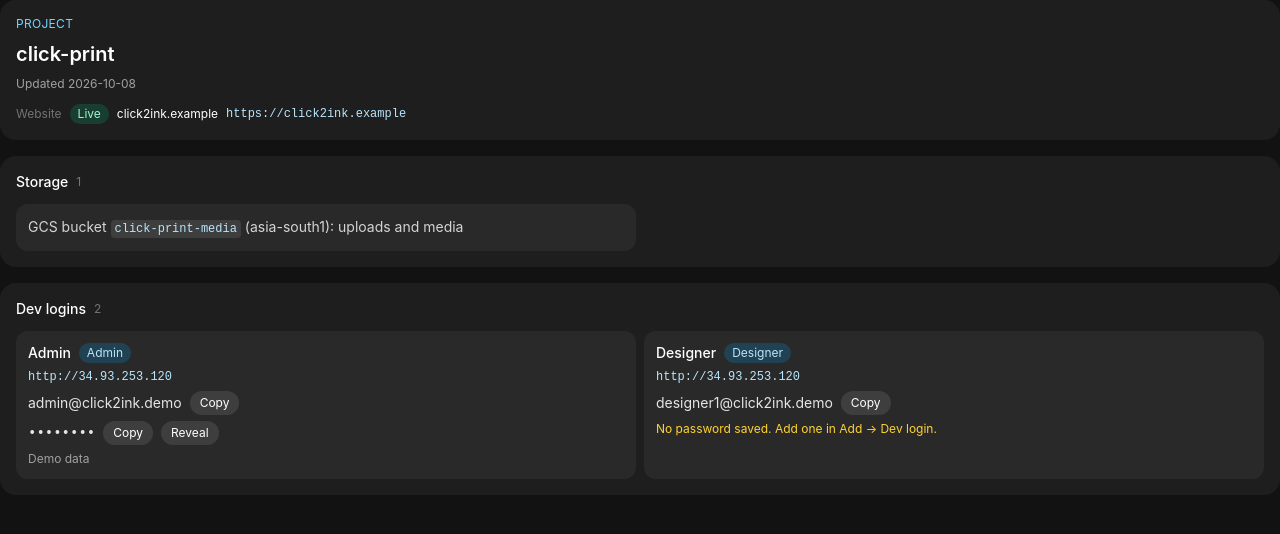
RecordView live site, storage and dev logins › hides passwords until asked and fetches them from the keychain on demand
Expected: the text with test id "password" reads "••••••••", [28,425,95,441]
Click the button with aria-label "Reveal password for Admin". click: (190, 433)
box: [161,421,219,445]
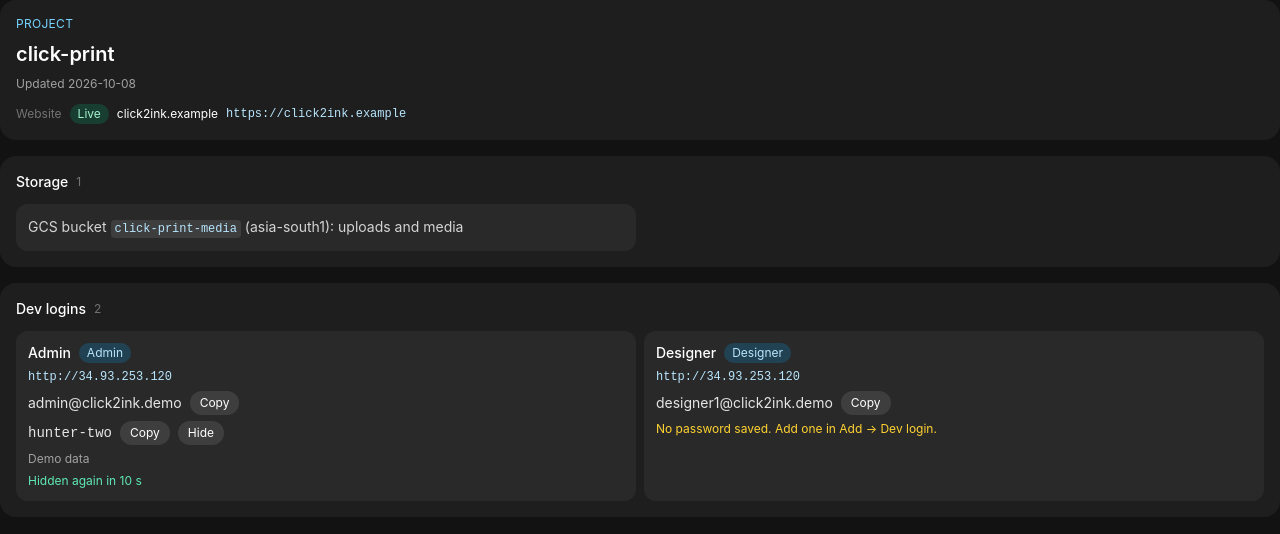
Expected: the text with test id "password" reads "hunter-two", [28,425,112,441]
Click the button with aria-label "Hide password for Admin". click: (201, 433)
box: [178,421,224,445]
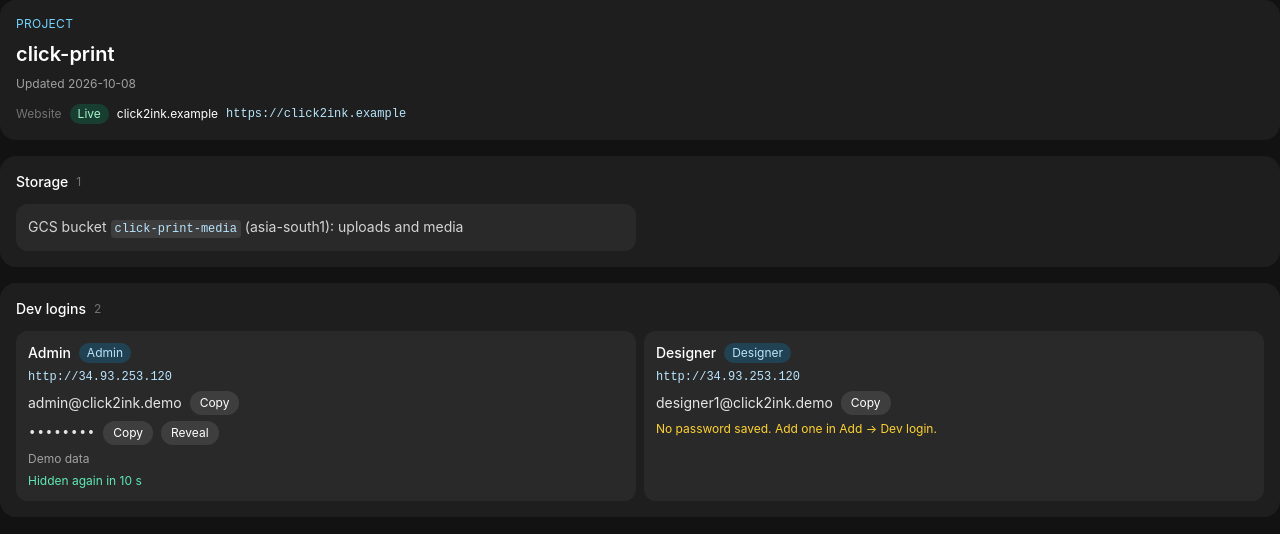
Expected: the text with test id "password" reads "••••••••", [28,425,95,441]
